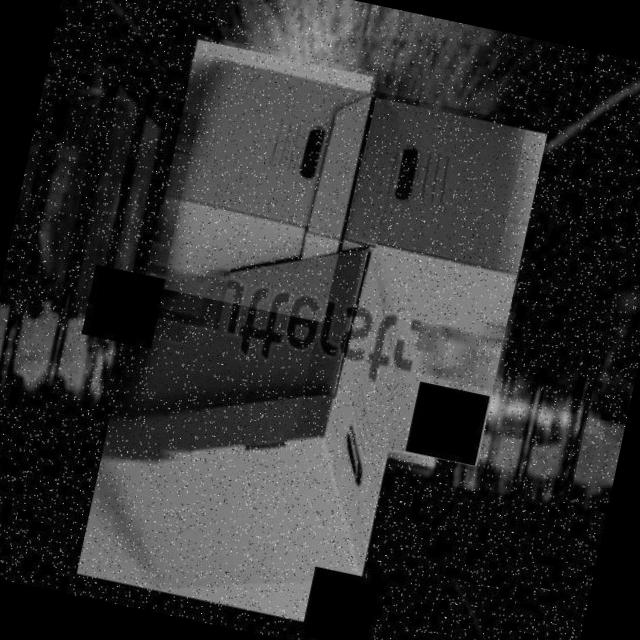box: (70, 195, 436, 638), (294, 89, 552, 472), (143, 34, 376, 323)
